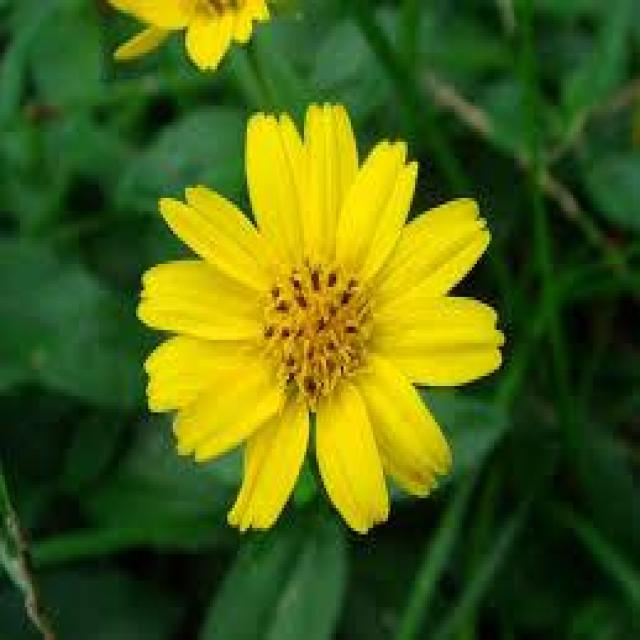organic waste: (126, 96, 507, 514)
